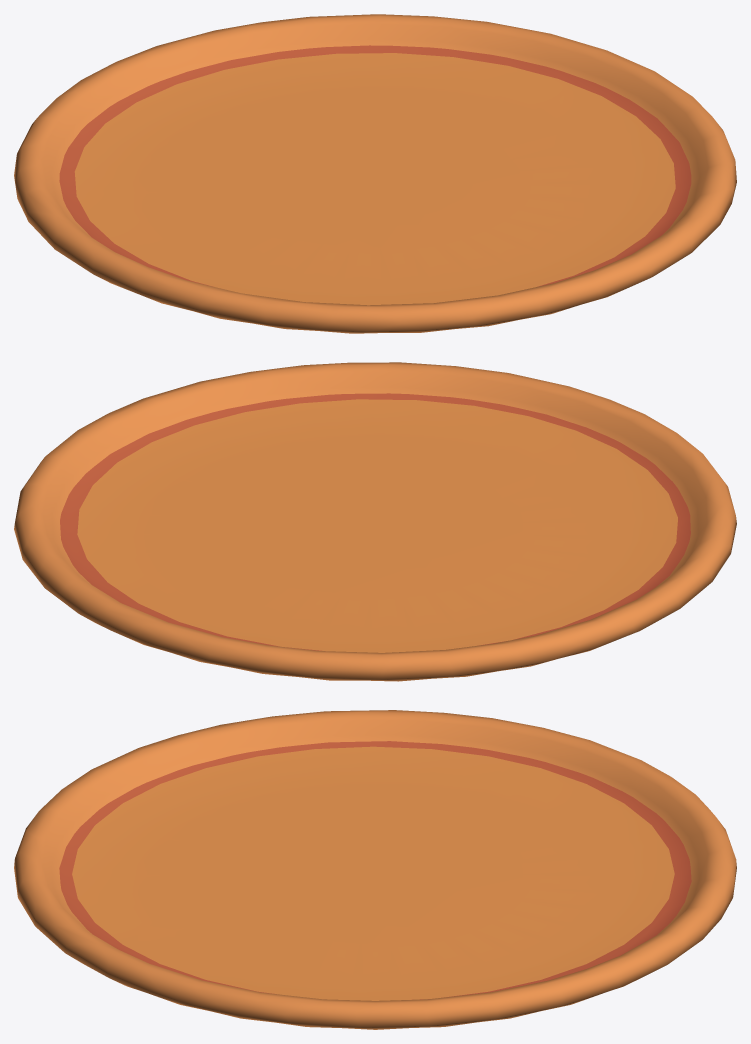
Rendered from pizza_z_serem.gltf.
The picture shows the model from 3 angles, top to bottom: view 1: azimuth 30°, elevation 25°; view 2: azimuth 150°, elevation 25°; view 3: azimuth 270°, elevation 25°; orthographic projection.
Visible parts, largest first — view 1: Cylinder, Circle.002, Circle.001; view 2: Cylinder, Circle.002, Circle.001; view 3: Cylinder, Circle.002, Circle.001.
Part boxes in pixels (x1=…): Cylinder: x1=14, y1=14, x2=736, y2=333; Circle.002: x1=59, y1=45, x2=691, y2=304; Circle.001: x1=75, y1=53, x2=675, y2=305; Cylinder: x1=14, y1=362, x2=736, y2=681; Circle.002: x1=60, y1=393, x2=690, y2=652; Circle.001: x1=77, y1=399, x2=677, y2=652; Cylinder: x1=14, y1=710, x2=736, y2=1029; Circle.002: x1=59, y1=741, x2=691, y2=1000; Circle.001: x1=72, y1=746, x2=674, y2=1000.
Bounding box in the file's own units: 1.44 × 0.0648 × 1.44.
2 materials, 2 textured.
